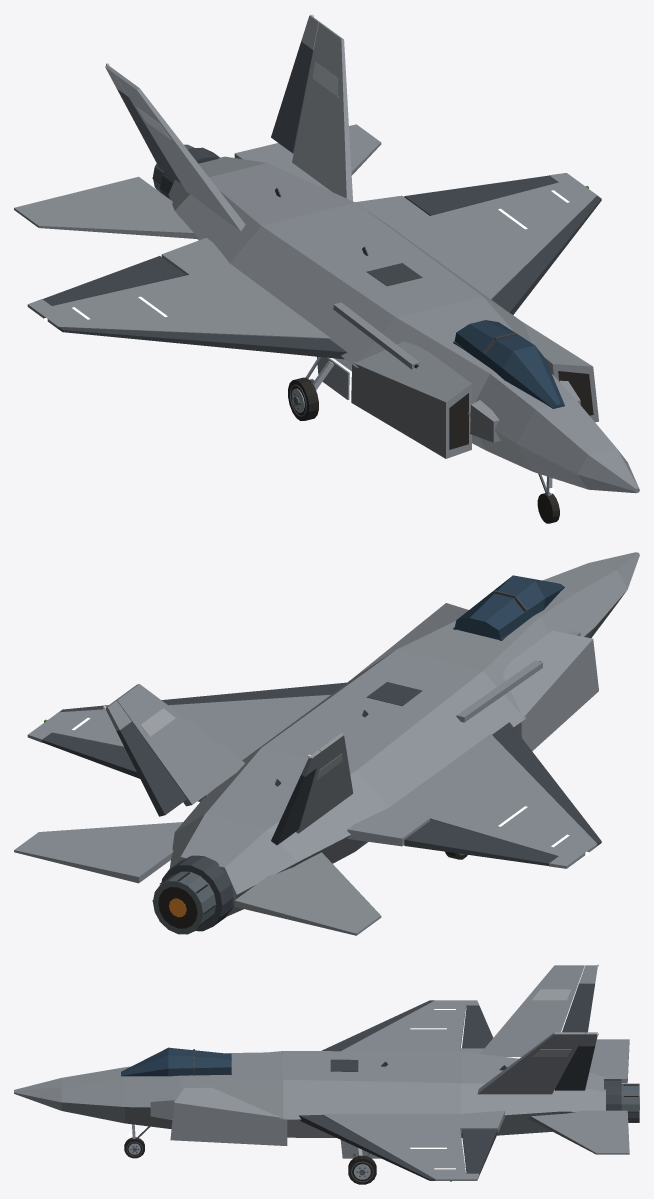
3 views of the same model, one above another, from view 1: azimuth 30°, elevation 25°; view 2: azimuth 150°, elevation 25°; view 3: azimuth 270°, elevation 25° (orthographic). The views are drawn at different scales.
Parts seen in each view (by area): view 1: fuselage, wings, tail, gear, engine; view 2: fuselage, wings, tail, engine; view 3: fuselage, tail, wings, gear, engine.
Boxes of the visible parts, left/top/right/bottom form: fuselage: left=168, top=156, right=639, bottom=493; wings: left=27, top=173, right=601, bottom=359; tail: left=14, top=14, right=381, bottom=239; gear: left=288, top=356, right=559, bottom=523; engine: left=152, top=144, right=219, bottom=199; fuselage: left=169, top=552, right=639, bottom=916; wings: left=27, top=682, right=601, bottom=868; tail: left=14, top=684, right=381, bottom=935; engine: left=152, top=855, right=233, bottom=934; fuselage: left=14, top=1047, right=605, bottom=1145; tail: left=477, top=964, right=629, bottom=1154; wings: left=299, top=999, right=504, bottom=1181; gear: left=124, top=1124, right=380, bottom=1184; engine: left=604, top=1079, right=639, bottom=1122.
Size of what is drawn, in the model's own units: 10.79 by 4.43 by 15.81.
